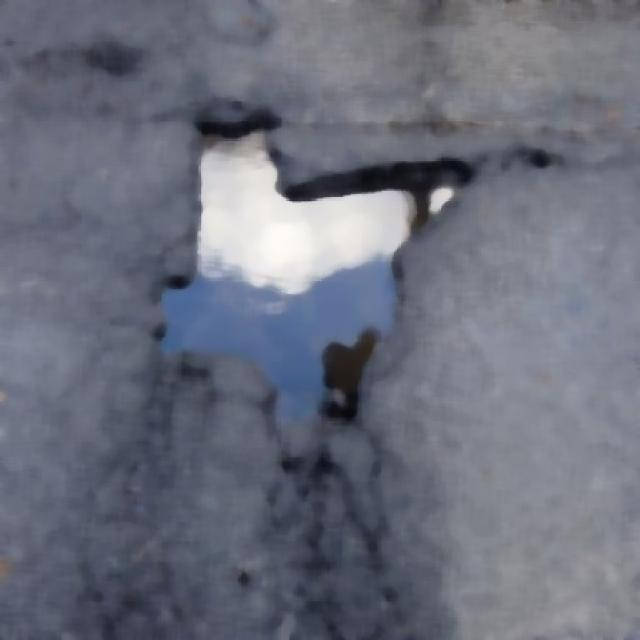Pothole: (171, 106, 404, 480)
